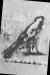G5: (2, 0, 49, 74)
